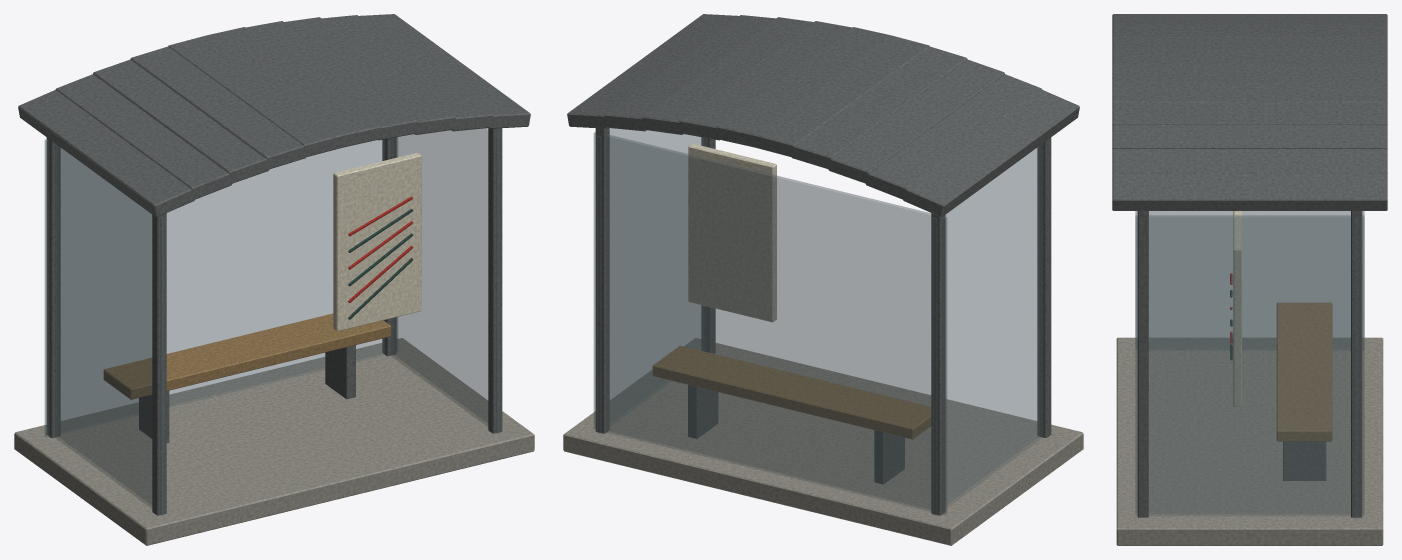
The model's file is BUSSTOP2_lod1.glb.
3 renders of one model, left to right at view 1: azimuth 30°, elevation 25°; view 2: azimuth 150°, elevation 25°; view 3: azimuth 270°, elevation 25°, orthographic.
Visible parts, largest first — view 1: BUSSTOP2_LOD1; view 2: BUSSTOP2_LOD1; view 3: BUSSTOP2_LOD1.
Part boxes in pixels (x1,y1,x2,y2): BUSSTOP2_LOD1: [14, 14, 534, 545]; BUSSTOP2_LOD1: [563, 14, 1083, 545]; BUSSTOP2_LOD1: [1112, 14, 1387, 545].
Bounding box in the file's own units: 3.65 × 3.28 × 2.22.
7 materials, 6 textured.
